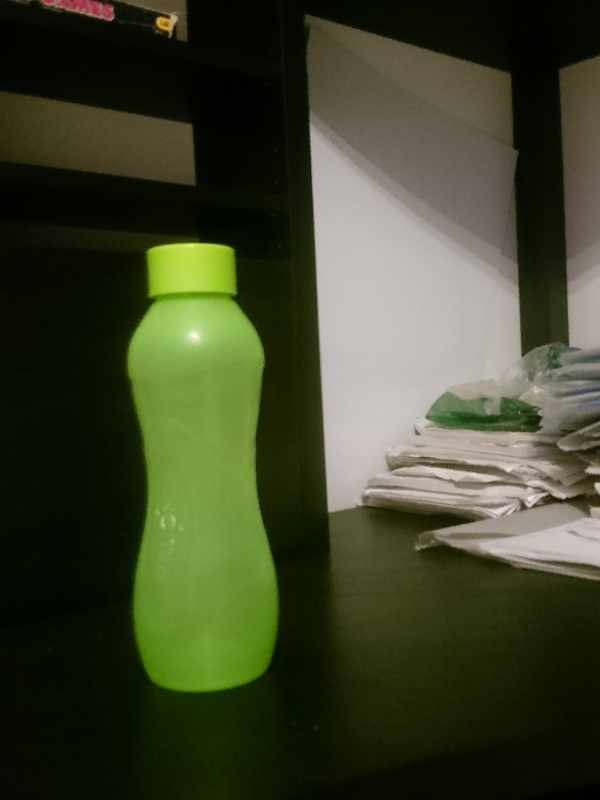my bottle: (126, 243, 282, 693)
